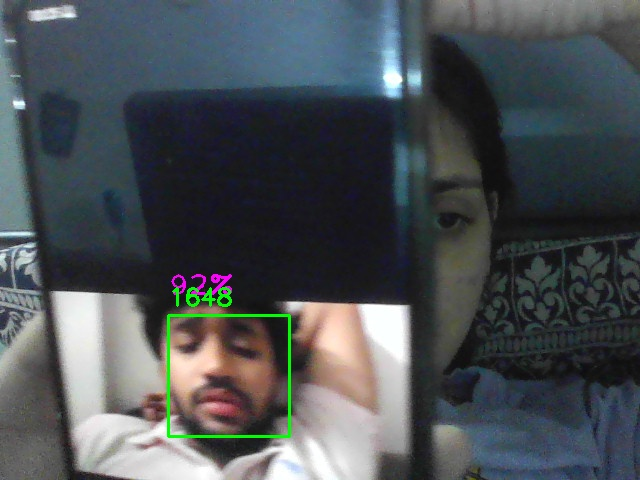fake: (168, 315, 290, 437)
